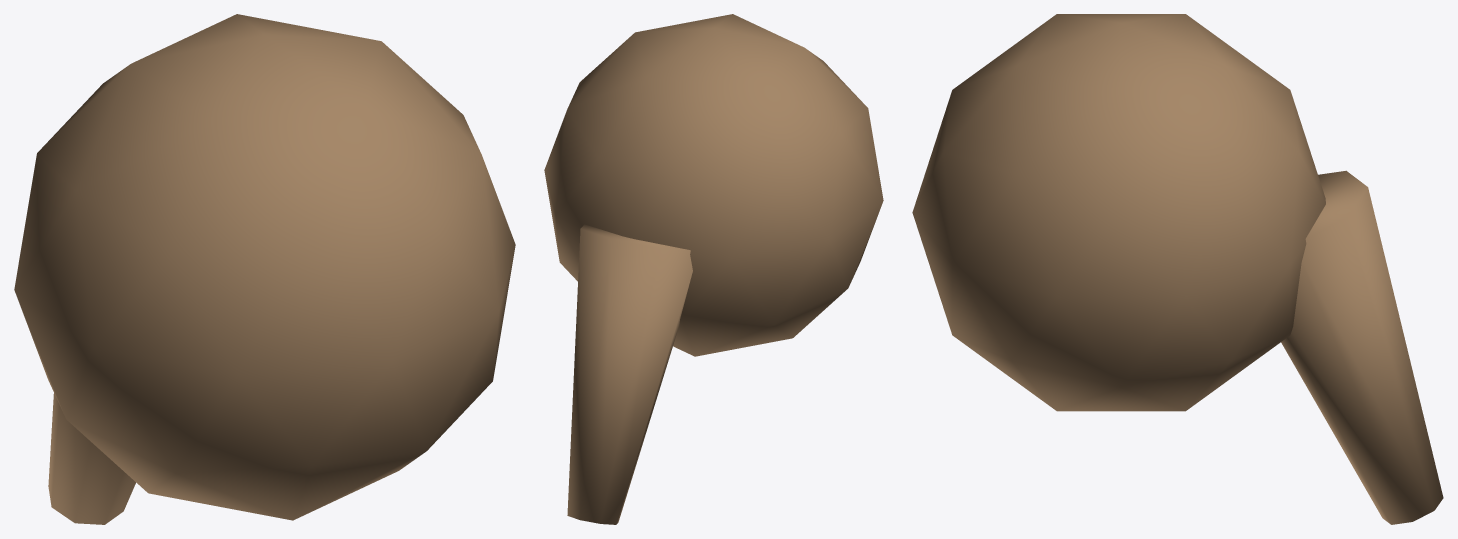
Rendered from ponytail.glb.
3 views of the same model, side by side, from view 1: azimuth 30°, elevation 25°; view 2: azimuth 150°, elevation 25°; view 3: azimuth 270°, elevation 25° (orthographic). The views are drawn at different scales.
Parts seen in each view (by area): view 1: HairPonytail; view 2: HairPonytail; view 3: HairPonytail.
Part boxes in pixels (<box>): HairPonytail: <box>14,14,515,524</box>; HairPonytail: <box>544,14,883,524</box>; HairPonytail: <box>912,14,1443,524</box>.
Size of the model in its own units: 0.1712 by 0.2353 by 0.2288.
